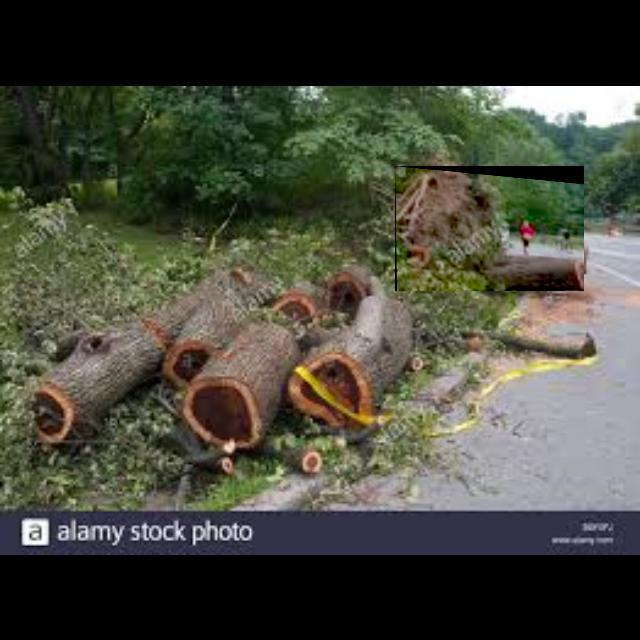fallen_tree: (395, 166, 585, 292)
